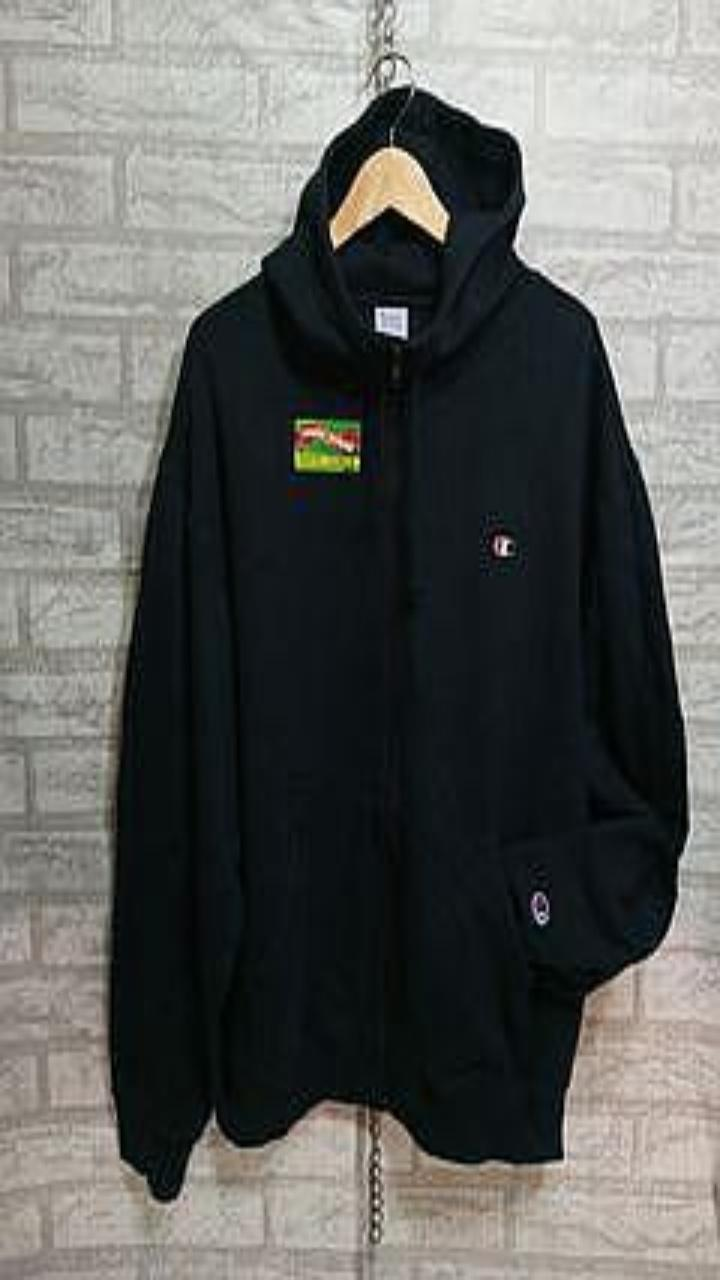Sports_Jacket: (109, 86, 688, 1199)
